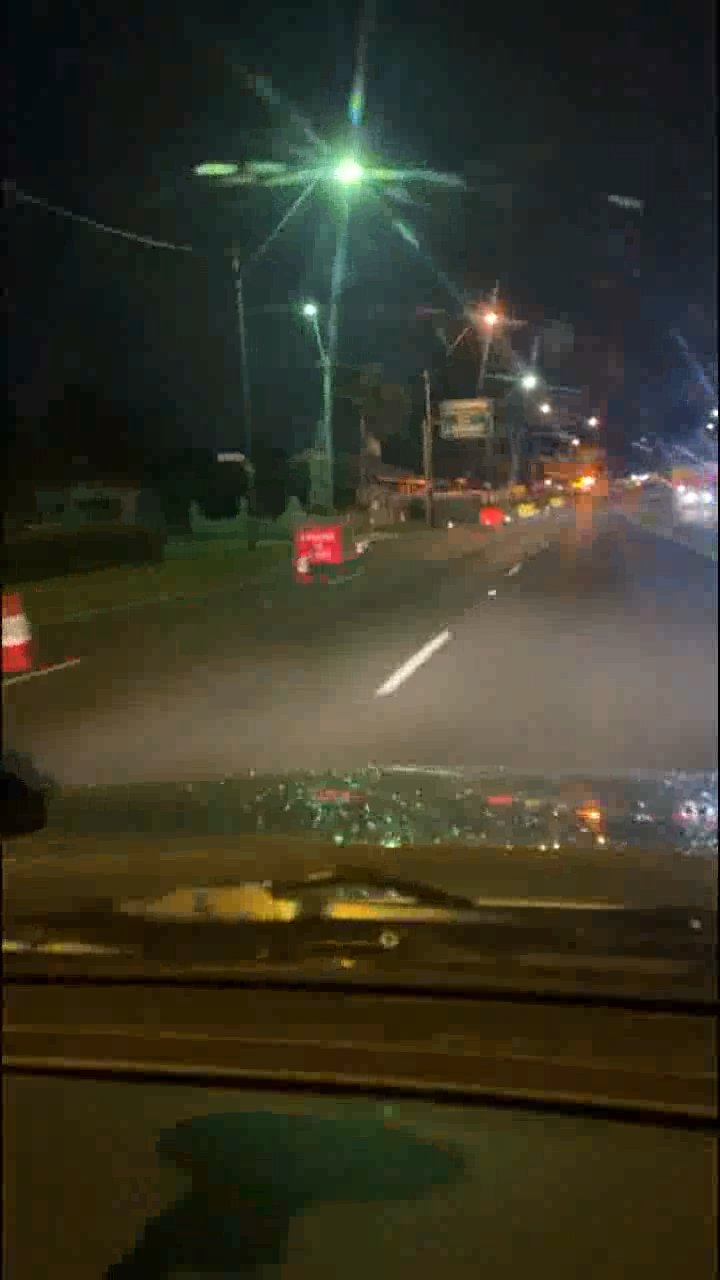road works sign board: (289, 527, 352, 571), (472, 509, 497, 525)
